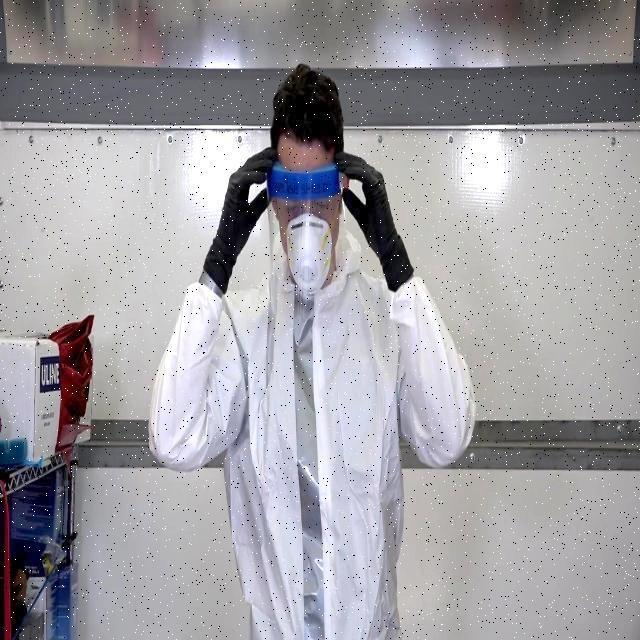apron: (339, 149, 424, 284), (198, 142, 270, 290)
